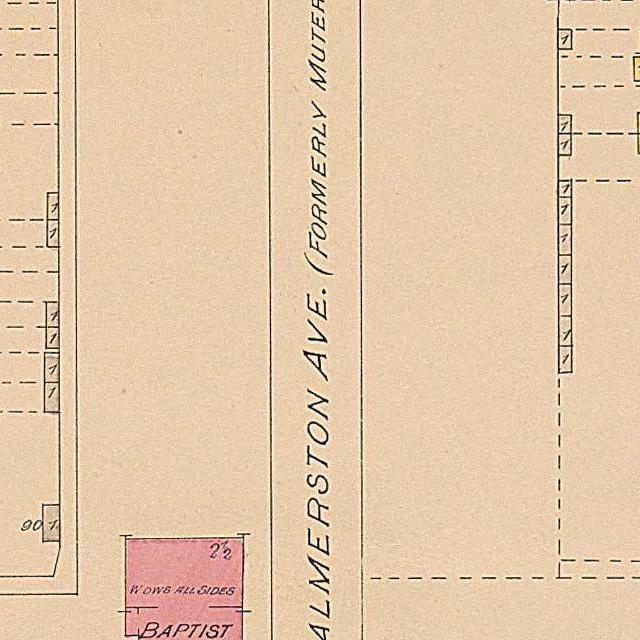building-footprints: (125, 537, 243, 640), (43, 504, 59, 541), (44, 352, 60, 382), (558, 284, 572, 316), (558, 224, 572, 255), (45, 382, 59, 412), (558, 254, 572, 284), (558, 197, 572, 225), (559, 316, 572, 346), (559, 346, 572, 372), (47, 219, 59, 247), (47, 302, 59, 327), (558, 29, 572, 50), (48, 193, 59, 219), (558, 133, 571, 155), (46, 327, 59, 348), (558, 115, 571, 134), (558, 181, 571, 197)
